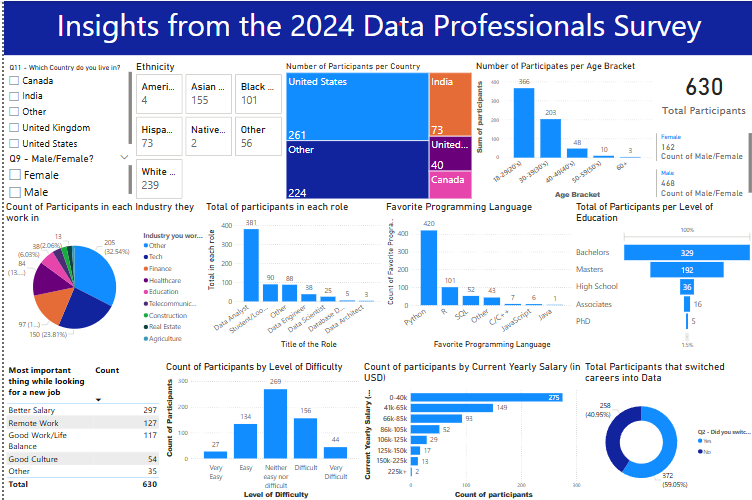

What the dashboard file says about the page in this screenshot:
{"tool":"powerbi","page":{"name":"Page 1","canvas":[1800,1200],"ordinal":0},"visuals":[{"type":"card","fields":{"Values":["Count(Data Professional Survey.Unique ID)"]},"box":[1560,120,240,192],"z":0},{"type":"treemap","title":"Number of Participants per Country","fields":{"Group":["Data Professional Survey.Q11 - Which Country do you live in?"],"Values":["CountNonNull(Data Professional Survey.Q11 - Which Country do you live in?)"]},"box":[672,144,456,336],"z":1000},{"type":"clusteredColumnChart","title":"Number of Participates per Age Bracket","fields":{"Category":["Data Professional Survey.Age Bracket"],"Y":["CountNonNull(Data Professional Survey.Age Bracket)"]},"box":[1128,144,432,336],"z":2000},{"type":"clusteredColumnChart","title":"Total of participants in each role","fields":{"Category":["Data Professional Survey.Q1 - Which Title Best Fits your Current Role?"],"Y":["CountNonNull(Data Professional Survey.Q1 - Which Title Best Fits your Current Role?)"]},"box":[480,480,432,360],"z":3000},{"type":"funnel","title":"Total of Participants per Level of Education","fields":{"Category":["Data Professional Survey.Q12 - Highest Level of Education"],"Y":["CountNonNull(Data Professional Survey.Q12 - Highest Level of Education)"]},"box":[1368,480,432,360],"z":4000},{"type":"tableEx","title":"Most important thing while looking for a new job","fields":{"Values":["Data Professional Survey.Q8 - If you were to look for a new job today, what would be the most important thing to you?","CountNonNull(Data Professional Survey.Q8 - If you were to look for a new job today, what would be the most important thi"]},"box":[0,864,384,336],"z":5000},{"type":"donutChart","title":"Total Participants that switched careers into Data","fields":{"Y":["CountNonNull(Data Professional Survey.Q2 - Did you switch careers into Data?)"],"Category":["Data Professional Survey.Q2 - Did you switch careers into Data?"]},"box":[1389.6,864,410.4,336],"z":6000},{"type":"clusteredBarChart","fields":{"Category":["Data Professional Survey.Q3 - Current Yearly Salary (in USD)"],"Y":["CountNonNull(Data Professional Survey.Q3 - Current Yearly Salary (in USD))"]},"box":[859.2,864,530.4,336],"z":7000},{"type":"multiRowCard","fields":{"Values":["Data Professional Survey.Q9 - Male/Female?","CountNonNull(Data Professional Survey.Q9 - Male/Female?)"]},"box":[1560,312,240,168],"z":8000},{"type":"advancedSlicerVisual","title":"Ethnicity","fields":{"Values":["Data Professional Survey.Q13 - Ethnicity"]},"box":[312,144,360,336],"z":9000},{"type":"clusteredColumnChart","title":"Favorite Programming Language","fields":{"Category":["Data Professional Survey.Q5 - Favorite Programming Language"],"Y":["CountNonNull(Data Professional Survey.Q5 - Favorite Programming Language)"]},"box":[912,480,456,360],"z":10000},{"type":"pieChart","title":"Count of Participants in each Industry they work in","fields":{"Y":["CountNonNull(Data Professional Survey.Q4 - What Industry do you work in?)"],"Category":["Data Professional Survey.Q4 - What Industry do you work in?"]},"box":[0,480,480,360],"z":11000},{"type":"lineClusteredColumnComboChart","fields":{"Y":["CountNonNull(Data Professional Survey.Q7 - How difficult was it for you to break into Data?)"],"Category":["Q7_SortTable.Q7"]},"box":[384,864,475.2,336],"z":12000},{"type":"slicer","fields":{"Values":["Data Professional Survey.Q11 - Which Country do you live in?"]},"box":[0,144,312,216],"z":13000},{"type":"textbox","box":[0,0,1800,129.7],"z":15000},{"type":"slicer","fields":{"Values":["Data Professional Survey.Q9 - Male/Female?"]},"box":[0,360,312,120],"z":16000}]}

Visuals, with their boxes in screenshot pixels (x1, y1, x2, y2), scaled from the page's 1800x1200 canvas onto the 752x500 screenshot:
card - Count(Data Professional Survey.Unique ID): bbox=[652, 50, 751, 130]
"Number of Participants per Country" treemap: bbox=[281, 60, 471, 200]
"Number of Participates per Age Bracket" clusteredColumnChart: bbox=[471, 60, 652, 200]
"Total of participants in each role" clusteredColumnChart: bbox=[201, 200, 381, 350]
"Total of Participants per Level of Education" funnel: bbox=[572, 200, 751, 350]
"Most important thing while looking for a new job" tableEx: bbox=[0, 360, 160, 499]
"Total Participants that switched careers into Data" donutChart: bbox=[581, 360, 751, 499]
clusteredBarChart - Data Professional Survey.Q3 - Current Yearly Salary (in USD) x CountNonNull(Data Professional Survey.Q3 - Current Yearly Salary (in USD)): bbox=[359, 360, 581, 499]
multiRowCard - Data Professional Survey.Q9 - Male/Female? x CountNonNull(Data Professional Survey.Q9 - Male/Female?): bbox=[652, 130, 751, 200]
"Ethnicity" advancedSlicerVisual: bbox=[130, 60, 281, 200]
"Favorite Programming Language" clusteredColumnChart: bbox=[381, 200, 572, 350]
"Count of Participants in each Industry they work in" pieChart: bbox=[0, 200, 201, 350]
lineClusteredColumnComboChart - CountNonNull(Data Professional Survey.Q7 - How difficult was it for you to break into Data?) x Q7_SortTable.Q7: bbox=[160, 360, 359, 499]
slicer - Data Professional Survey.Q11 - Which Country do you live in?: bbox=[0, 60, 130, 150]
textbox: bbox=[0, 0, 751, 54]
slicer - Data Professional Survey.Q9 - Male/Female?: bbox=[0, 150, 130, 200]
